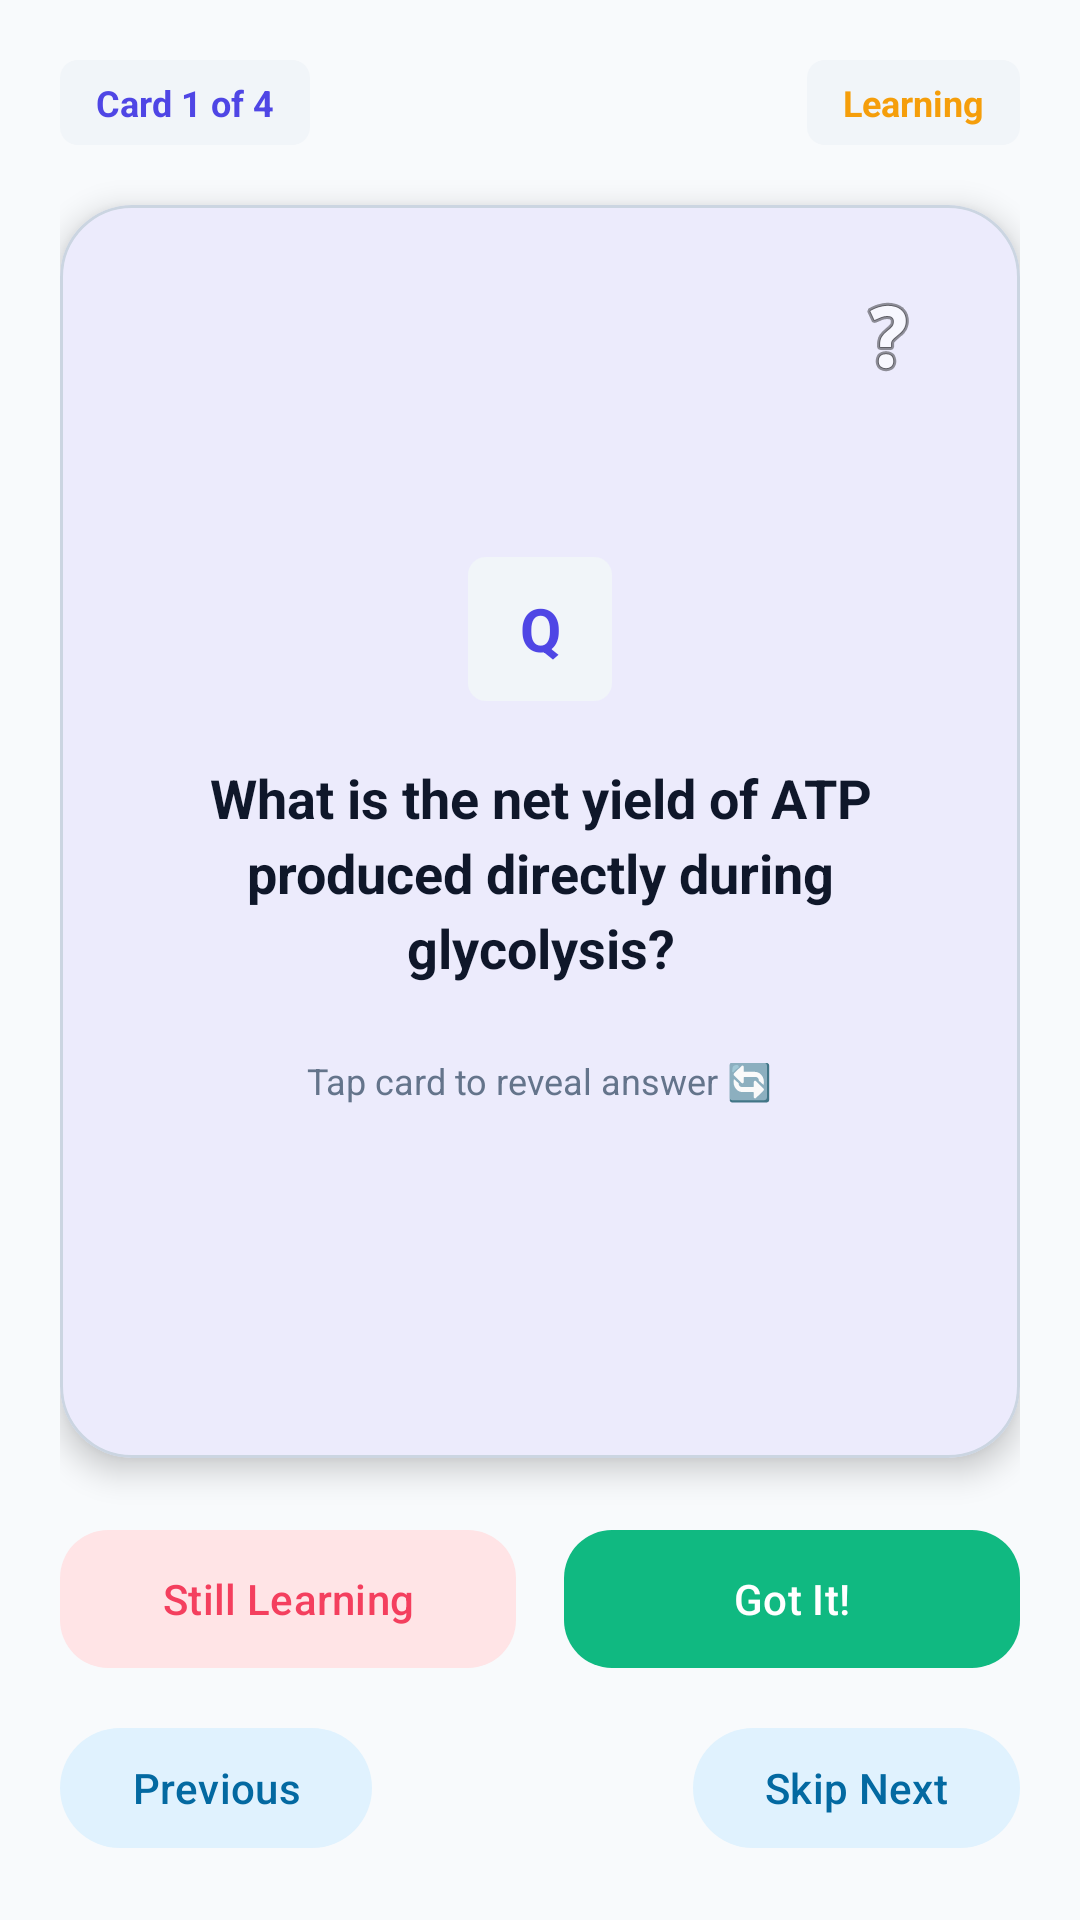

Screen size 1080w x 1920h. Icon name, then its box in pixels as (x1, y1, x2, y2):
help: (867, 303, 909, 371)
